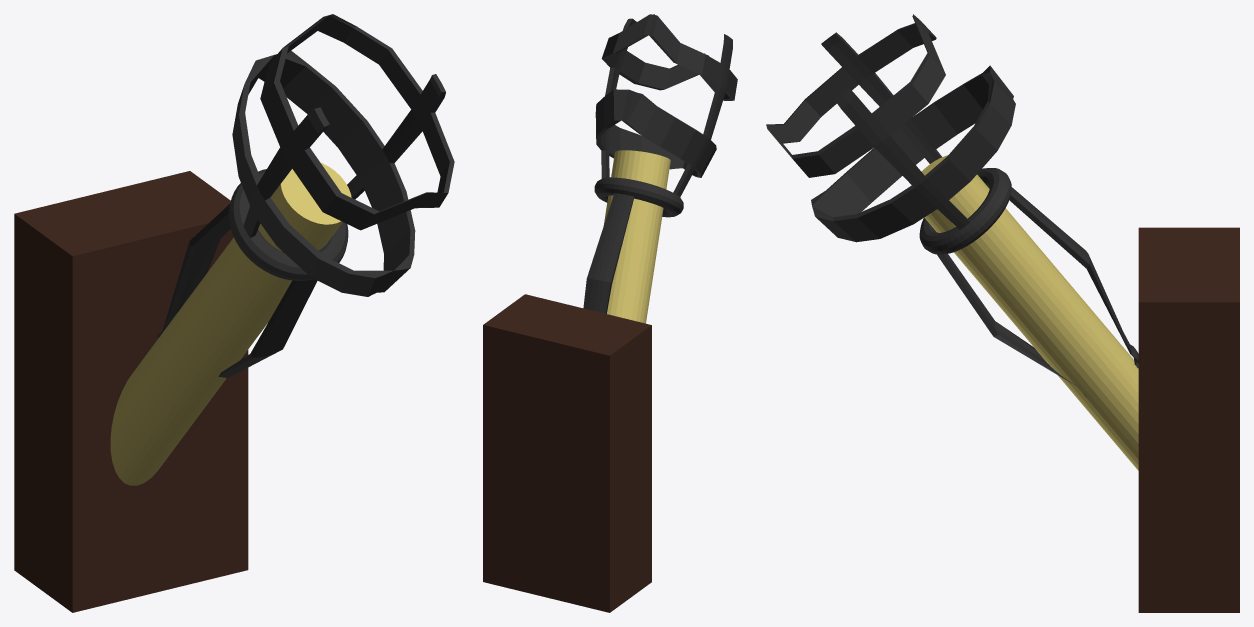
Rendered from Torch2.fbx.
3 renders of one model, left to right at view 1: azimuth 30°, elevation 25°; view 2: azimuth 150°, elevation 25°; view 3: azimuth 270°, elevation 25°, orthographic. The views are drawn at different scales.
Parts seen in each view (by area): view 1: TorchStand, TorchHolder, TorchShaft; view 2: TorchStand, TorchHolder, TorchShaft; view 3: TorchStand, TorchHolder, TorchShaft.
Part boxes in pixels (x1,y1,x2,y2): TorchStand: (14,171,248,612); TorchHolder: (157,14,454,378); TorchShaft: (110,163,351,485); TorchStand: (483,294,651,612); TorchHolder: (583,14,737,313); TorchShaft: (603,150,670,323); TorchStand: (1138,227,1239,612); TorchHolder: (766,14,1138,396); TorchShaft: (921,155,1138,470).
Size of the model in its own units: 118 by 371 by 277.
